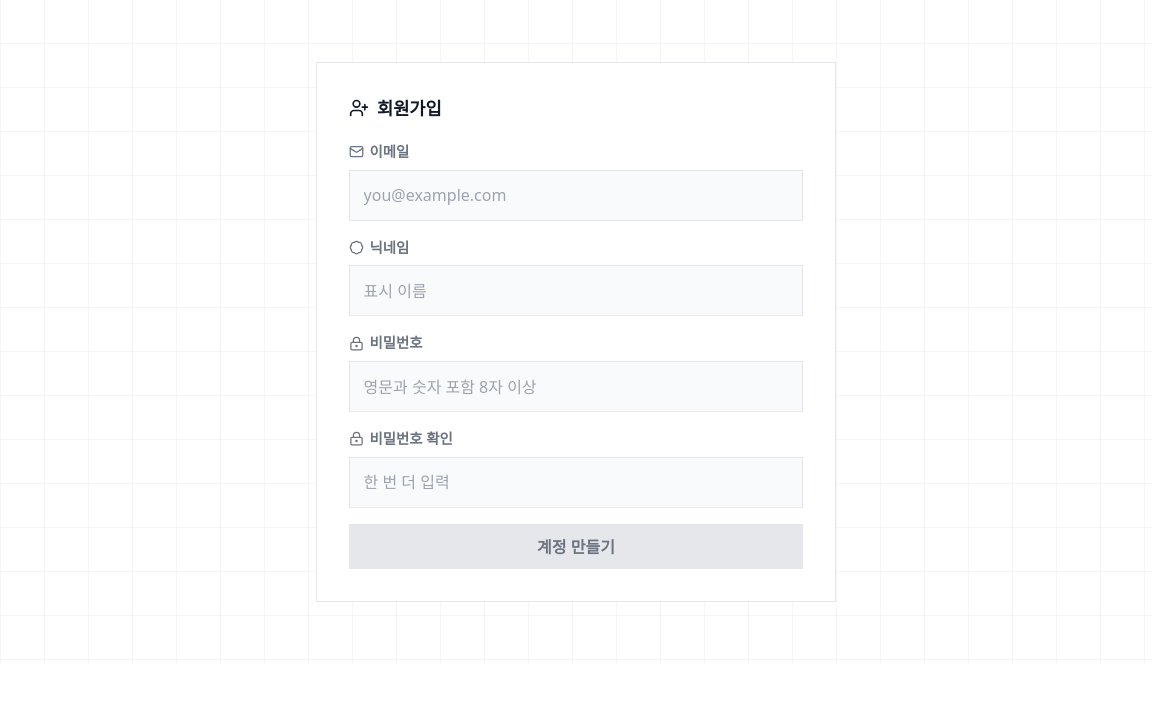
it: SignupView › shows duplicate email errors from the signup API
The width and height of the screenshot is (1152, 720).
Type "dupe@example.com" into the field with test id "signup-email" at (576, 195), box left=349, top=170, right=803, bottom=221
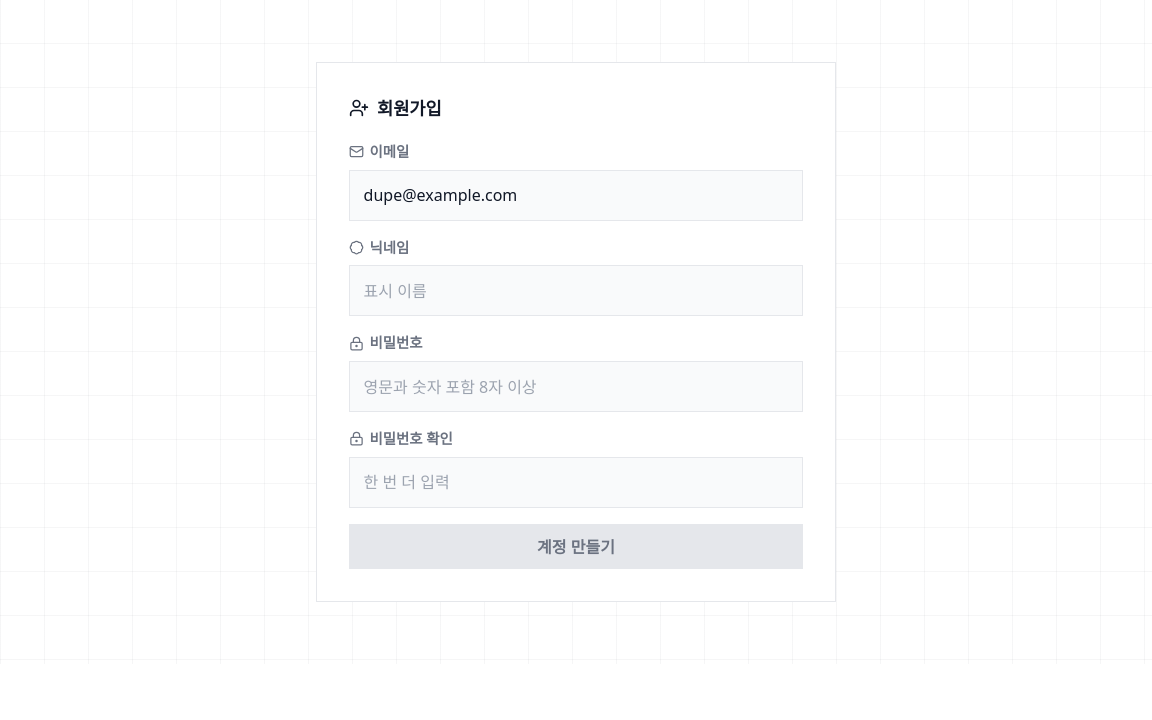
Type "Bench1234" into the password field with test id "signup-password" at (576, 387), box left=349, top=361, right=803, bottom=412
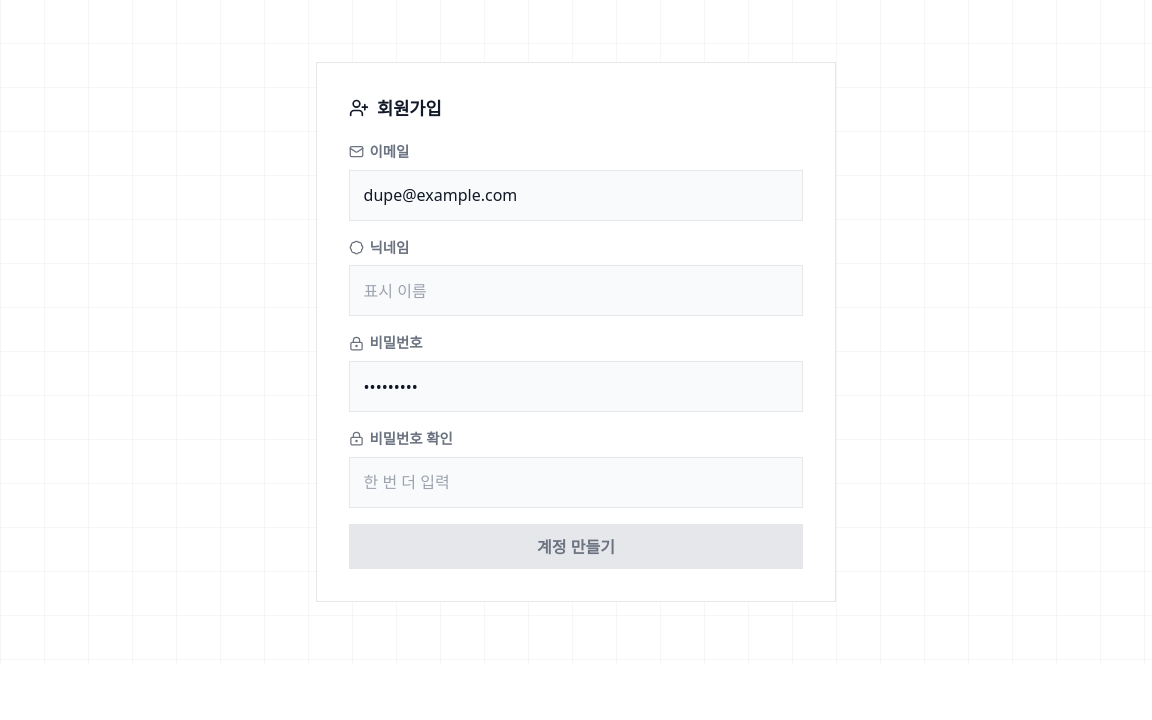
Type "Bench1234" into the password field with test id "signup-confirm-password" at (576, 482), box left=349, top=457, right=803, bottom=508
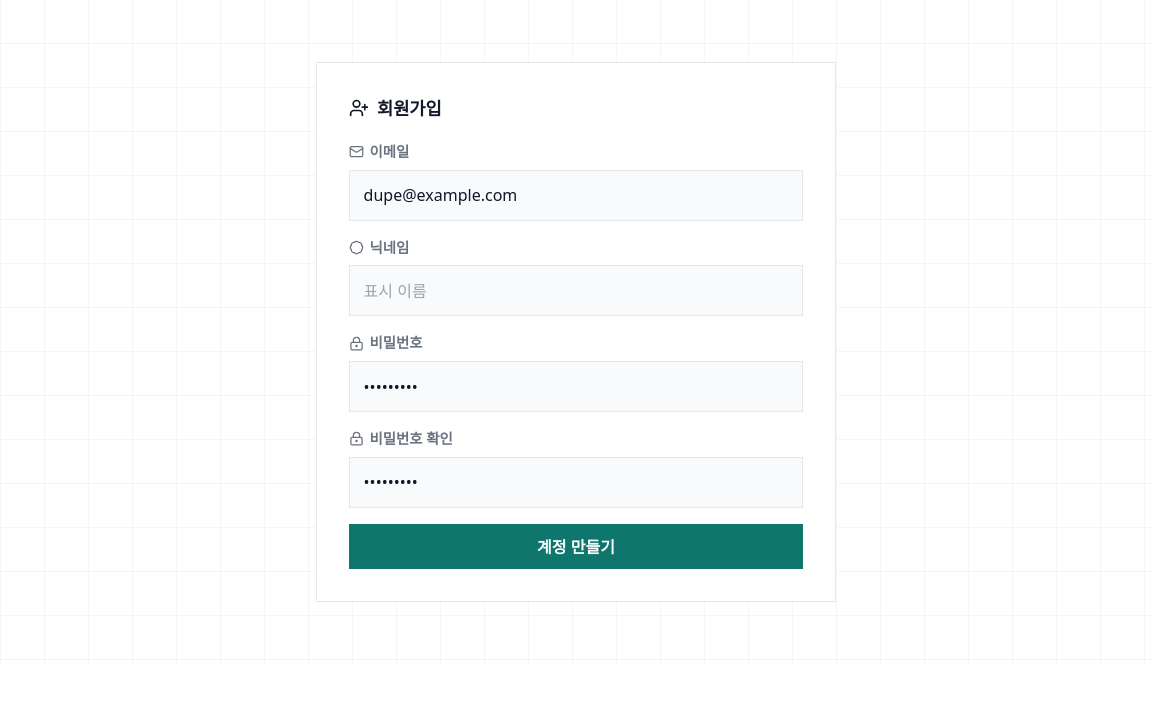
Submit the form with test id "signup-form", box left=317, top=62, right=835, bottom=601
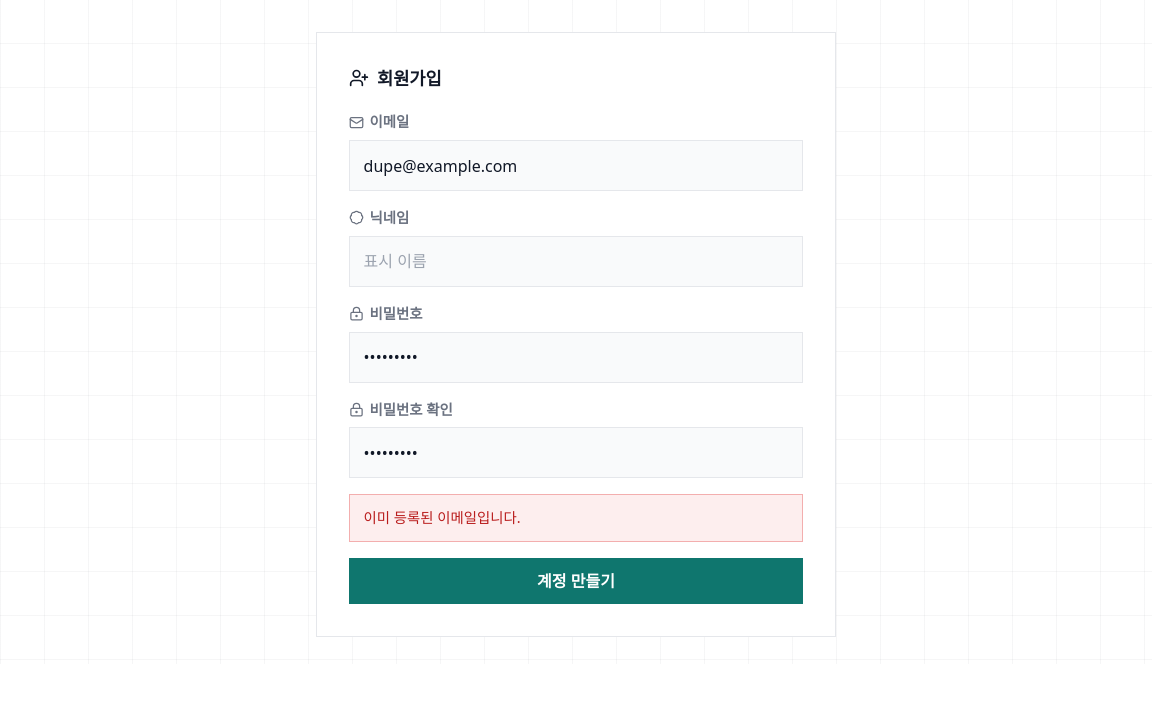
Now the text with test id "signup-error" shows "이미 등록", box left=364, top=508, right=521, bottom=527
